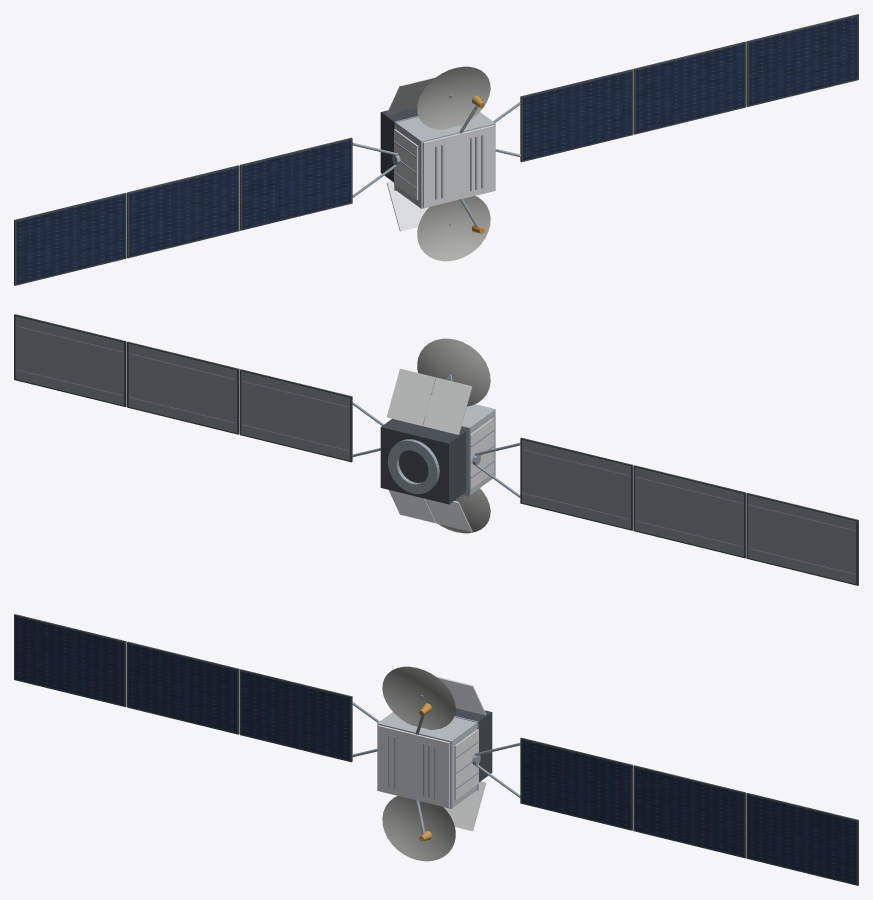
Rendered from hughes-601hp-galaxy-twin-reflector.glb.
3 renders of one model, top to bottom at view 1: azimuth 30°, elevation 25°; view 2: azimuth 150°, elevation 25°; view 3: azimuth 330°, elevation 25°, orthographic.
Parts seen in each view (by area): view 1: Solar cell panel (×6), Communications reflector (×2), Solar panel frame (×6), Earth-facing deck, Payload module, Deployed radiator leaf (×2), Radiator face, Service module; view 2: Rear array substrate (×6), Deployed radiator leaf (×4), Solar panel frame (×6), Service module, Communications reflector (×2), Launch adapter ring, Radiator face, Payload module; view 3: Solar cell panel (×6), Communications reflector (×2), Solar panel frame (×6), Earth-facing deck, Payload module, Deployed radiator leaf (×2), Radiator face, Service module.
Part boxes in pixels (x1,y1,x2,y2): Solar cell panel (×6): (16,16,857,283); Communications reflector (×2): (417,66,490,261); Solar panel frame (×6): (14,14,858,285); Earth-facing deck: (423,125,495,207); Payload module: (395,112,495,208); Deployed radiator leaf (×2): (386,76,435,231); Radiator face: (394,129,418,200); Service module: (380,108,418,182); Rear array substrate (×6): (15,316,856,583); Deployed radiator leaf (×4): (386,368,472,531); Solar panel frame (×6): (14,314,858,585); Service module: (380,419,465,504); Communications reflector (×2): (417,338,490,533); Launch adapter ring: (387,439,439,493); Radiator face: (470,418,493,489); Payload module: (425,398,495,494); Solar cell panel (×6): (15,616,856,883); Communications reflector (×2): (382,666,455,861); Solar panel frame (×6): (14,614,858,885); Earth-facing deck: (377,725,449,807); Payload module: (377,712,477,808); Deployed radiator leaf (×2): (437,676,486,831); Radiator face: (454,729,478,800); Service module: (454,708,492,782).
Bounding box in the file's own units: 26.16 × 5.7 × 2.93.
8 materials, 1 textured.
